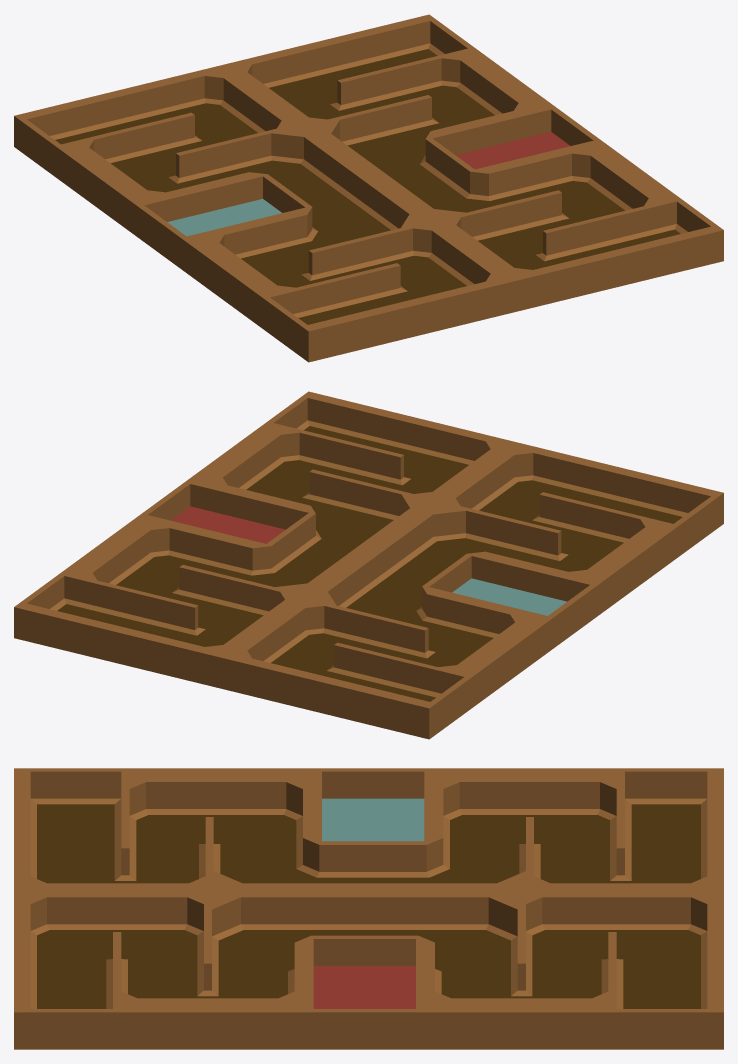
File: TutorialZone V4.fbx
3 renders of one model, top to bottom at view 1: azimuth 30°, elevation 25°; view 2: azimuth 150°, elevation 25°; view 3: azimuth 270°, elevation 25°, orthographic. The views are drawn at different scales.
Visible parts, largest first — view 1: Model; view 2: Model; view 3: Model.
Part boxes in pixels (x1=…): Model: x1=14, y1=14, x2=723, y2=362; Model: x1=14, y1=391, x2=723, y2=739; Model: x1=14, y1=768, x2=723, y2=1049.
Bounding box in the file's own units: 175 × 12.5 × 215.
